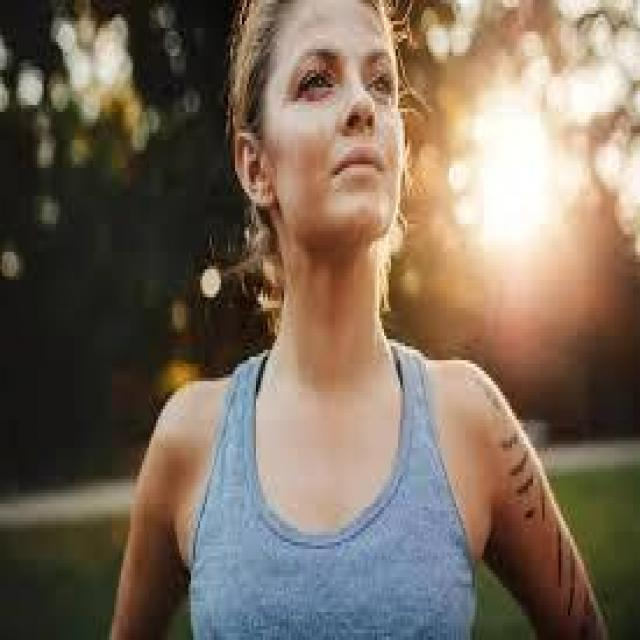person: (112, 0, 600, 637)
